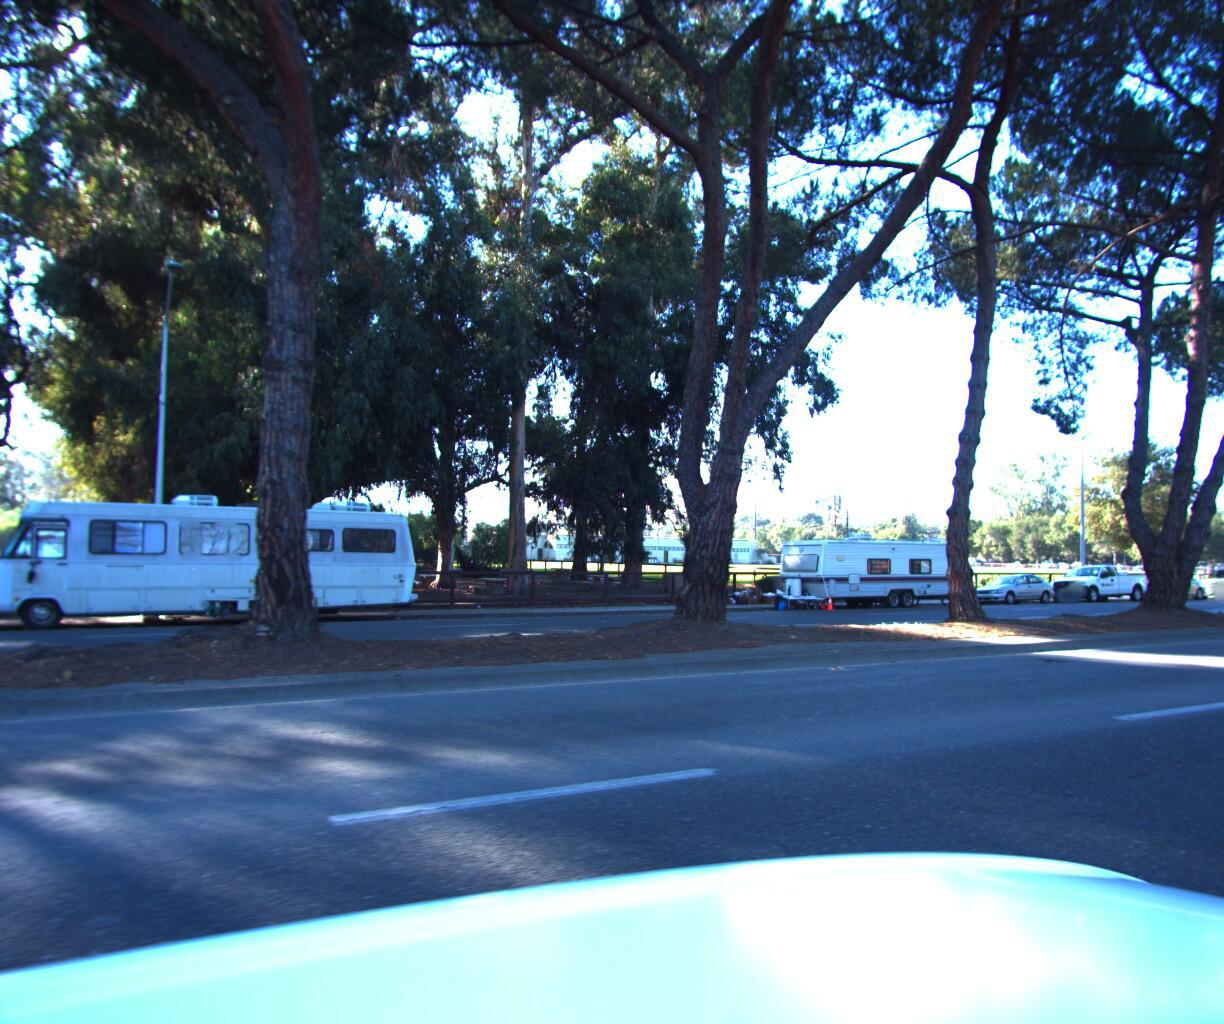car: (1037, 560, 1150, 605), (960, 573, 1059, 607), (1123, 570, 1208, 604), (1183, 563, 1224, 601)
other_vehicle: (0, 478, 425, 636), (758, 530, 965, 611)
